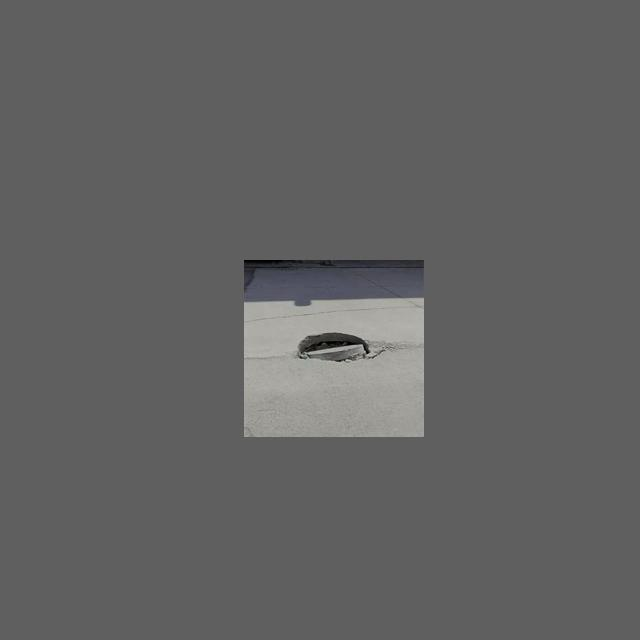broke: (283, 325, 386, 376)
